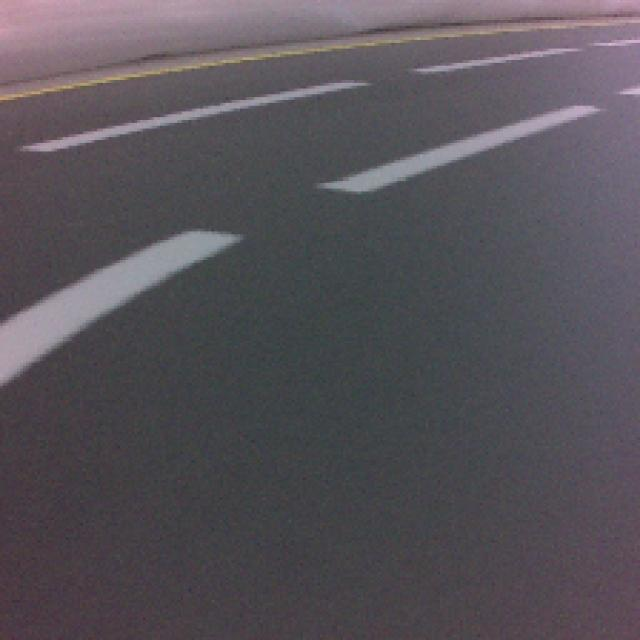Road: (0, 341, 640, 640)
